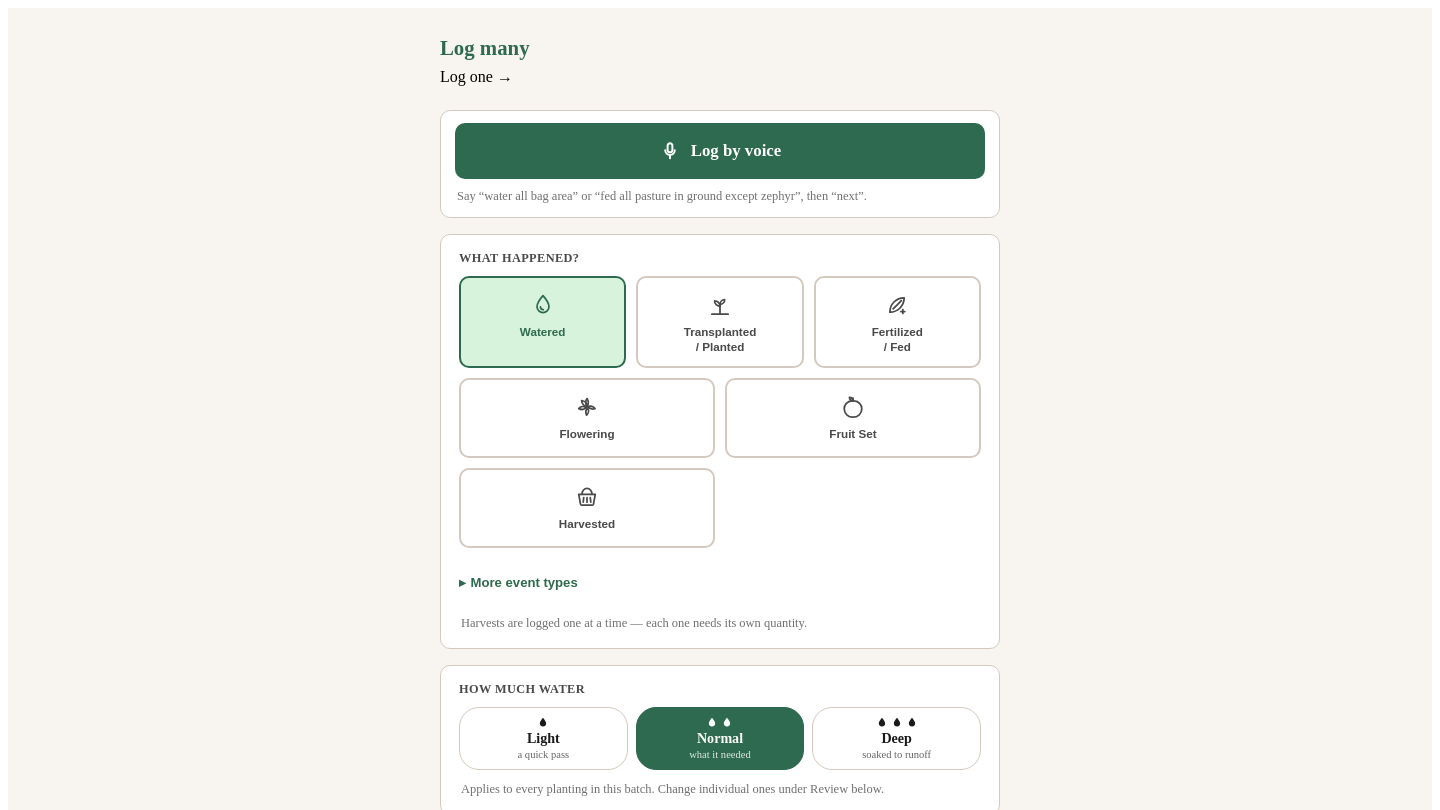
refusals — the whole command, nothing written, no confirm window › an unknown area is refused before any request
This screenshot has width=1440, height=810.
Click the button with test id "lmv-start" at (720, 151), box [455,123,985,179]
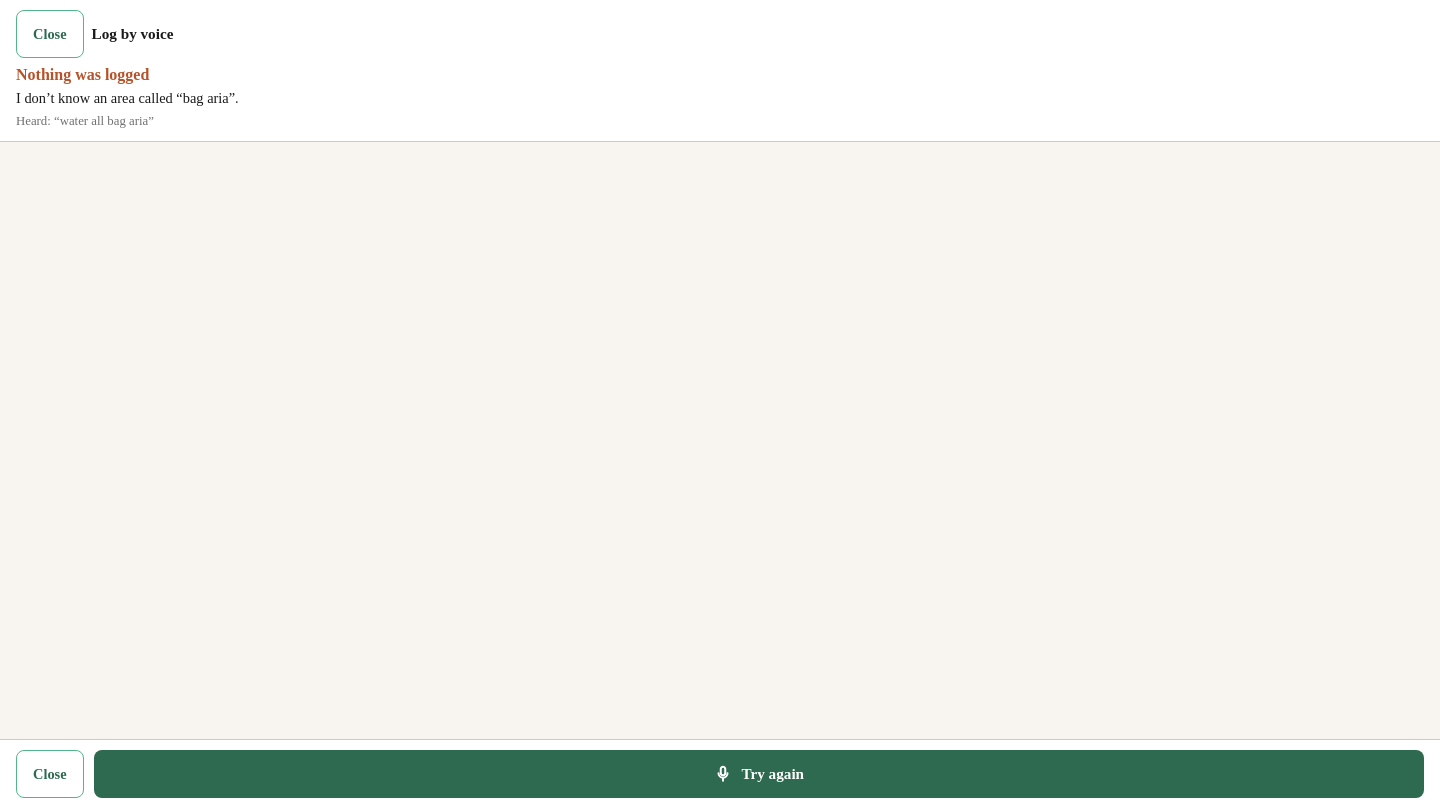
Now the text "Nothing was logged" is shown, box [16,66,149,83]
Now the text with test id "lmv-message" reads "I don’t know an area called “bag aria”.", box [16,90,239,106]
